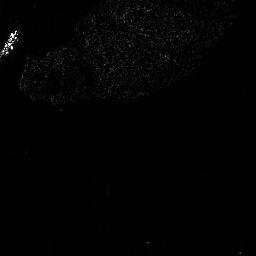ship: (1, 28, 24, 55)
